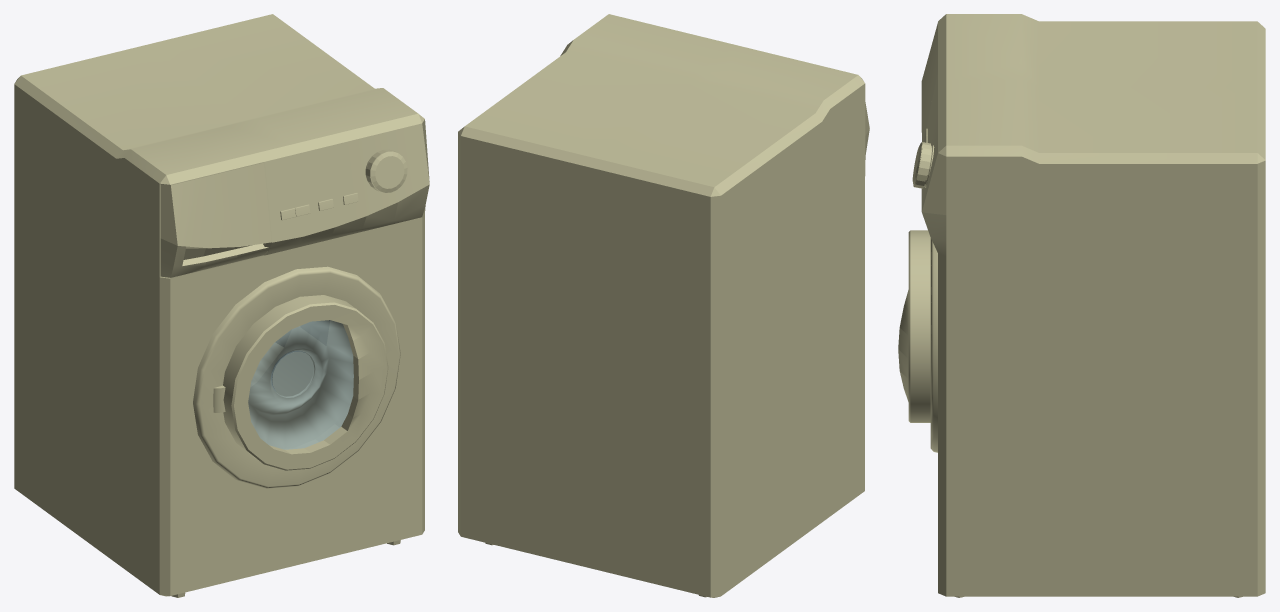
The model's file is washer.fbx.
3 views of the same model, side by side, from view 1: azimuth 30°, elevation 25°; view 2: azimuth 150°, elevation 25°; view 3: azimuth 270°, elevation 25° (orthographic). The views are drawn at different scales.
Parts seen in each view (by area): view 1: polySurface28; view 2: polySurface28; view 3: polySurface28.
Part boxes in pixels (box(x1,y1,x2,y2)): polySurface28: box(14, 14, 429, 597); polySurface28: box(458, 14, 869, 597); polySurface28: box(898, 14, 1265, 597).
Size of the model in its own units: 0.6256 by 0.9657 by 0.7016.
